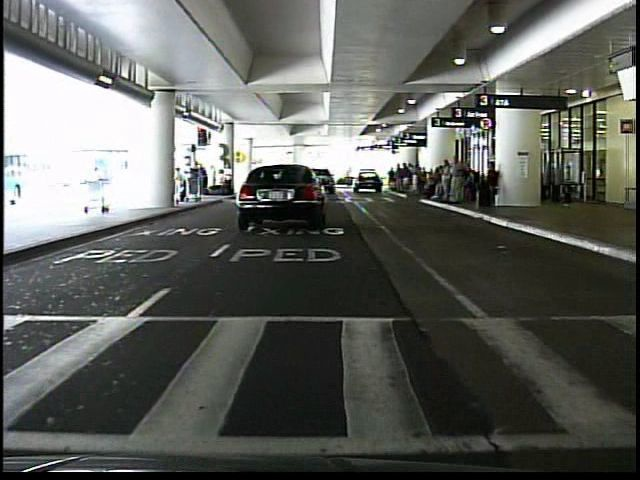person: (447, 152, 469, 209)
